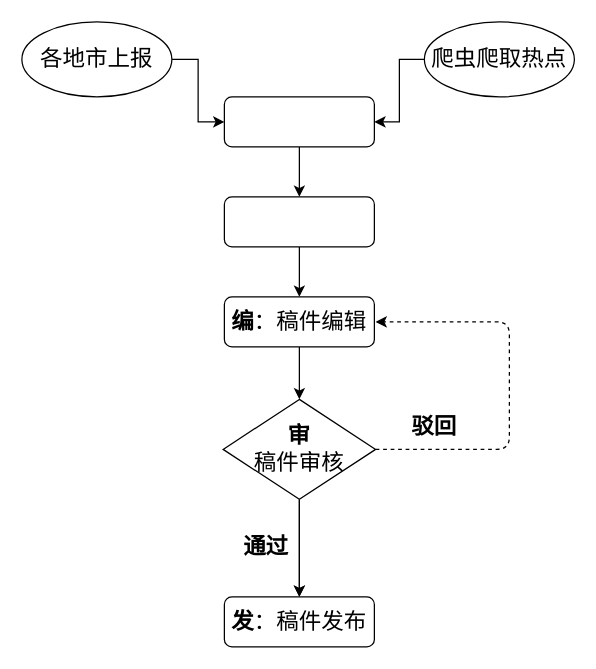
This 596x669 diagram has some shape labels left out. Each missing label, with the centre of its shape:
策 ：选题策划: the point at 298,121
采 ：素材采集: the point at 298,221
